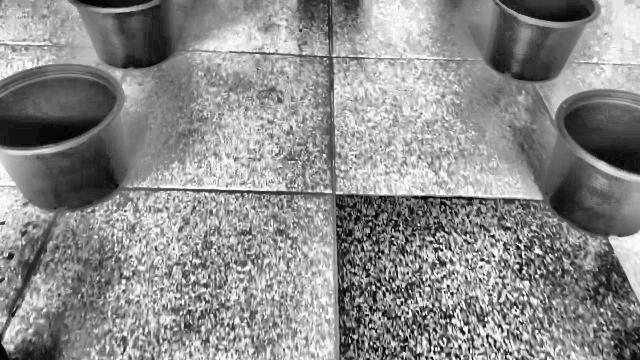pot: (0, 64, 128, 211), (546, 89, 640, 238), (483, 0, 602, 84), (64, 0, 178, 71)
